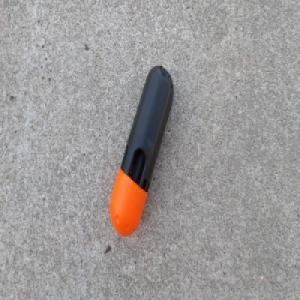PlasticPart: (108, 62, 175, 238)
